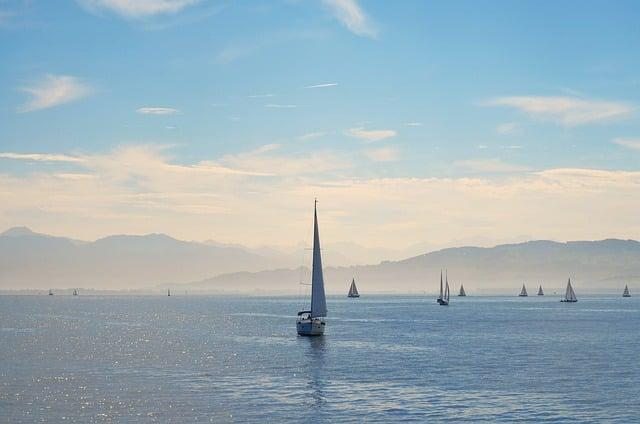Ship: (297, 201, 329, 337), (561, 279, 577, 303), (349, 279, 360, 298)
